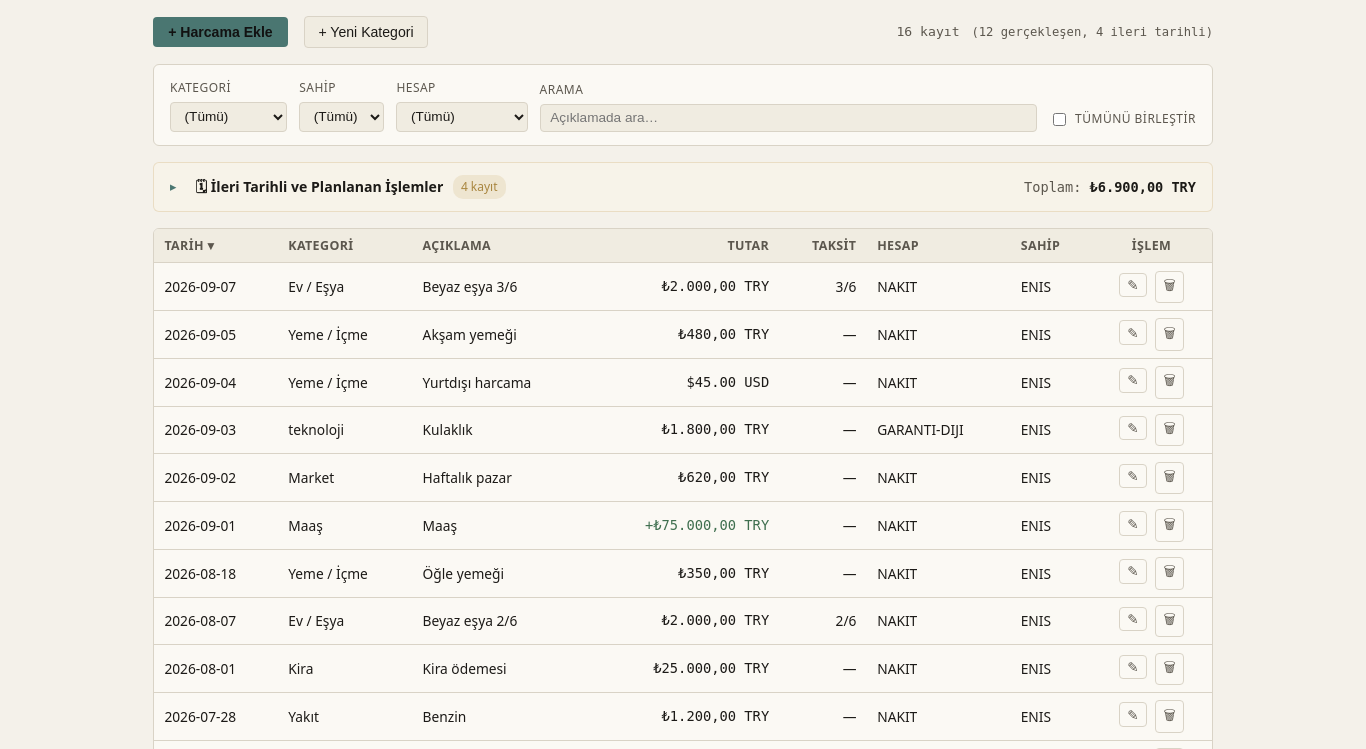
Test case: Harcamalar sayfası › yeni kategori butonuna basınca modal açılır
Expected: the text "Yeni Kategori Ekle" is not shown
Step 1. Click the button "+ Yeni Kategori" → (366, 32), box x1=304 y1=16 x2=428 y2=48
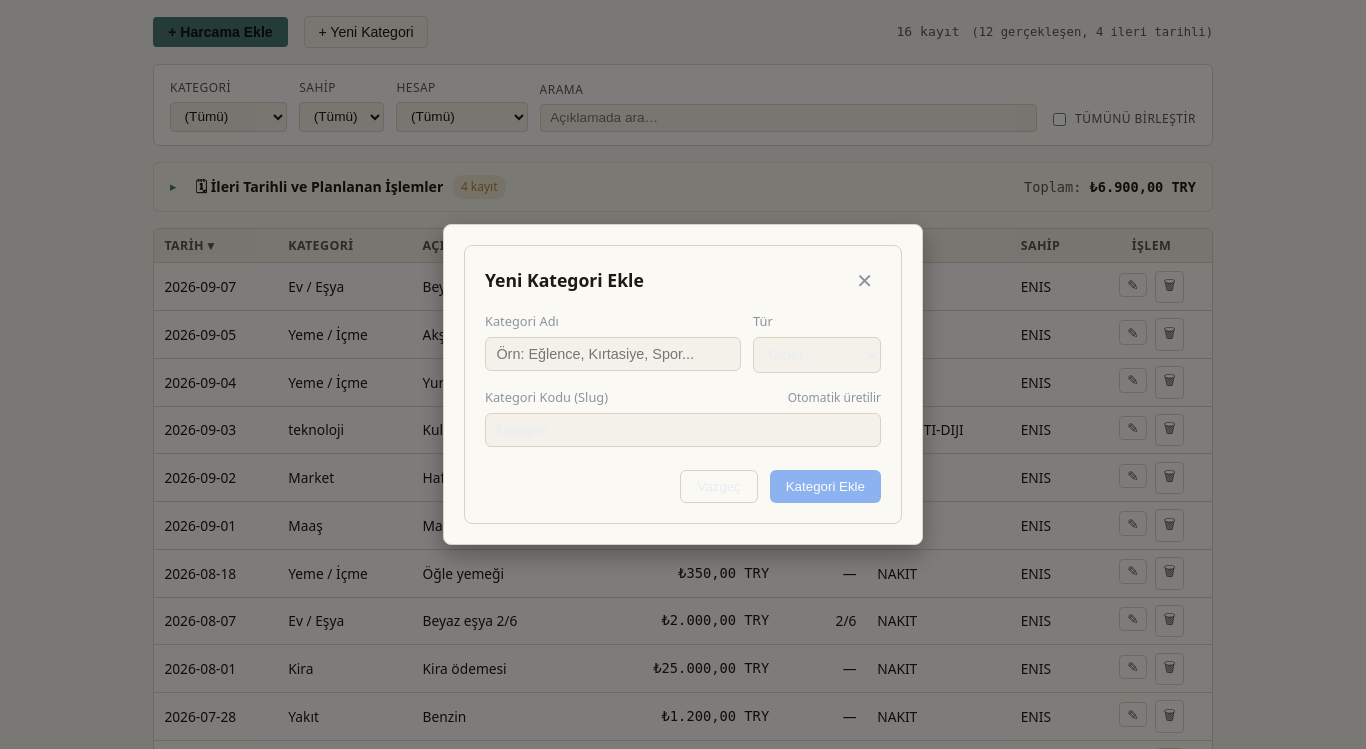
Expected: the heading "Yeni Kategori Ekle" is shown, x1=485 y1=267 x2=644 y2=294
